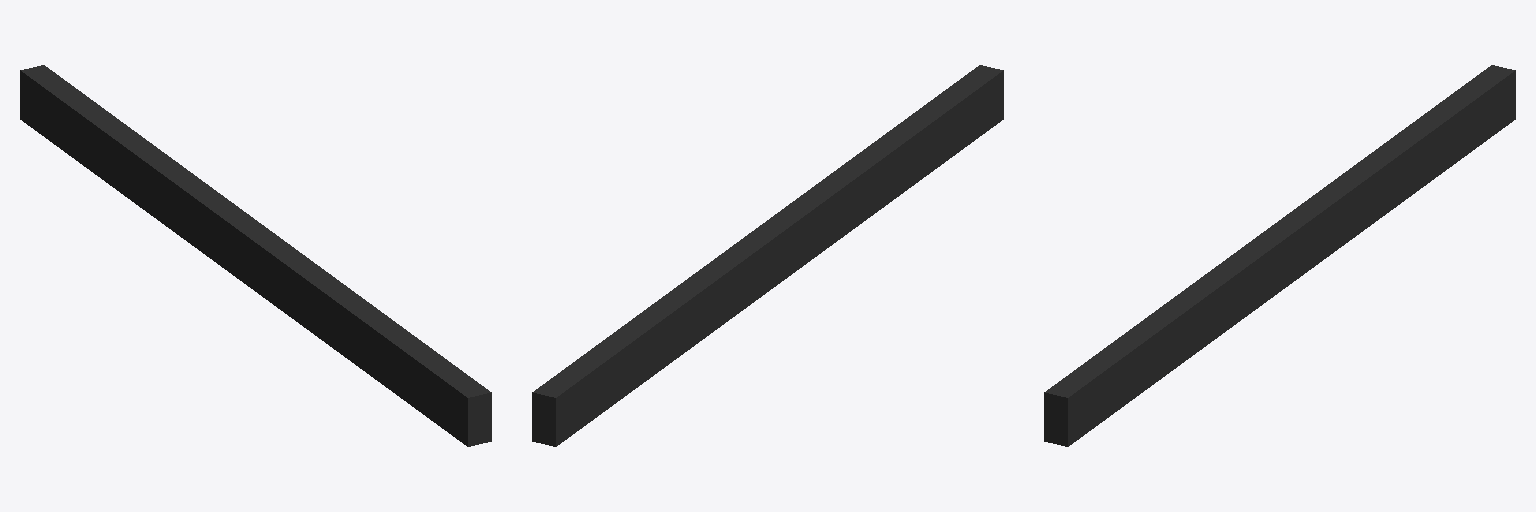
robot.urdf — wall:
<robot name="wall">
  <link name="baseLink">
   
    <inertial>
      <origin rpy="0 0 0" xyz="0 0 0" />
       <mass value="10" />
       <inertia ixx="0" ixy="0" ixz="0" iyy="0" iyz="0" izz="0" />
    </inertial>
    <visual>
      <origin rpy="0 0 0" xyz="0 0 0" />
      <geometry>
			  <box size="0.1 3.3000000000000003 0.2" />
      </geometry>
       <material name="grey">
        <color rgba="0.24 0.24 0.24 1" />
      </material>
    </visual>
    <collision>
      <origin rpy="0 0 0" xyz="0 0 0" />
      <geometry>
	 	      <box size="0.1 3.3000000000000003 0.2" />
      </geometry>
    </collision>
  </link>
</robot>

--- Facts derived from the render (not from the file) ---
3 views of the same robot in one strip: view 1: azimuth 30°, elevation 25°; view 2: azimuth 150°, elevation 25°; view 3: azimuth 330°, elevation 25° (orthographic).
Model wall with 1 links and 0 joints (none), rooted at baseLink, posed every joint at zero.
Links seen in each view (by area): view 1: baseLink; view 2: baseLink; view 3: baseLink.
Link boxes in pixels (left/top/right/bottom): baseLink: left=20, top=65, right=491, bottom=446; baseLink: left=532, top=65, right=1003, bottom=446; baseLink: left=1044, top=65, right=1515, bottom=446.
Bounding box of the posed robot: 0.1 × 3.3 × 0.2 m (x, y, z).
Geometry: primitives only (box / cylinder / sphere), no mesh files.
